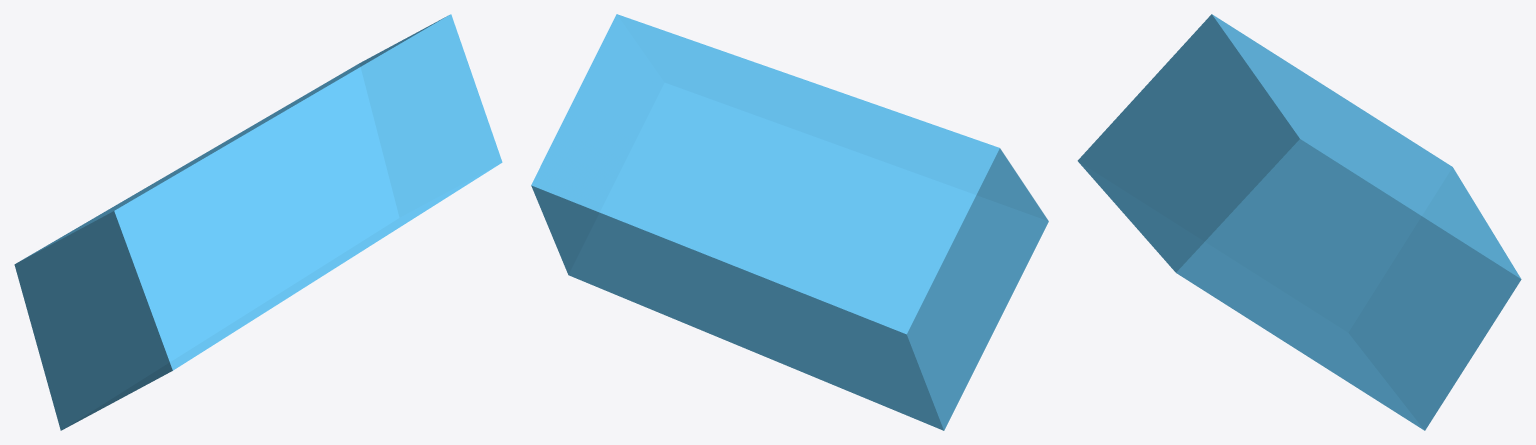
The model's file is Event_420604493_HErechit_1.fbx.
The picture shows the model from 3 angles, left to right: view 1: azimuth 30°, elevation 25°; view 2: azimuth 150°, elevation 25°; view 3: azimuth 270°, elevation 25°; orthographic projection. The views are drawn at different scales.
Parts seen in each view (by area): view 1: Model; view 2: Model; view 3: Model.
Boxes of the visible parts, <box> form: Model: <box>14,14,502,430</box>; Model: <box>531,14,1048,430</box>; Model: <box>1077,14,1521,430</box>.
Size of the model in its own units: 0.9016 by 0.787 by 0.7681.
